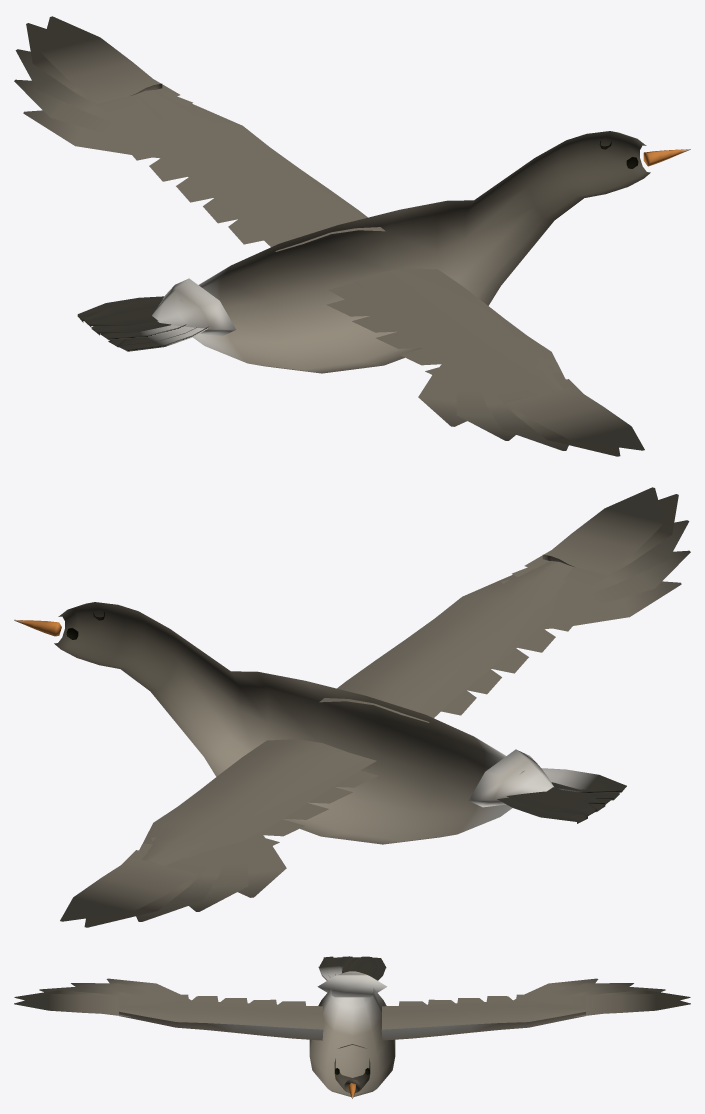
The model's file is SM_Bird_goose_glide_LOD1.glb.
3 renders of one model, top to bottom at view 1: azimuth 30°, elevation 25°; view 2: azimuth 150°, elevation 25°; view 3: azimuth 270°, elevation 25°, orthographic. The views are drawn at different scales.
Visible parts, largest first — view 1: SM_Bird_goose_glide_LOD1; view 2: SM_Bird_goose_glide_LOD1; view 3: SM_Bird_goose_glide_LOD1.
Part boxes in pixels (x1,y1,x2,y2): SM_Bird_goose_glide_LOD1: (14,16,690,456); SM_Bird_goose_glide_LOD1: (14,487,690,927); SM_Bird_goose_glide_LOD1: (14,956,690,1098).
Bounding box in the file's own units: 0.8761 × 0.2388 × 1.52.
